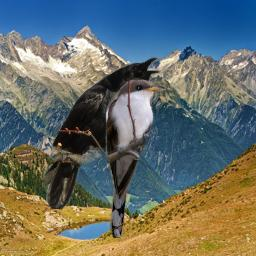Crow: (41, 54, 163, 209)
Cuckoo: (104, 78, 166, 238)
